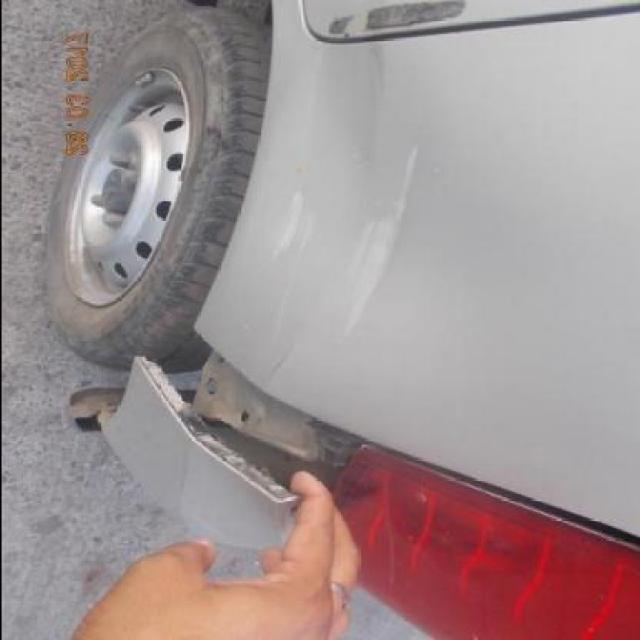damage: (131, 331, 361, 505)
